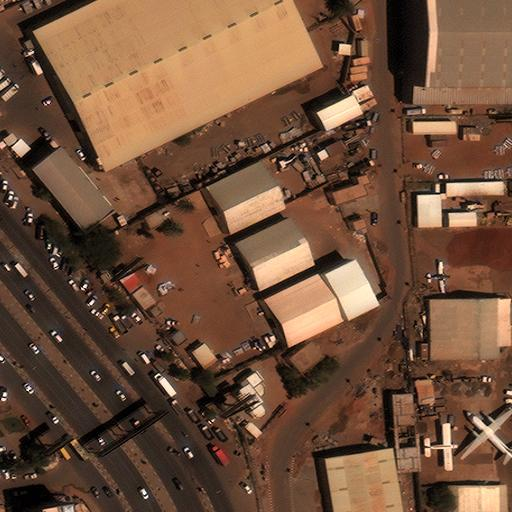Medium Civil Transport: (460, 405, 512, 457), (423, 423, 458, 469)
Small Civil Transport: (426, 261, 449, 293)
